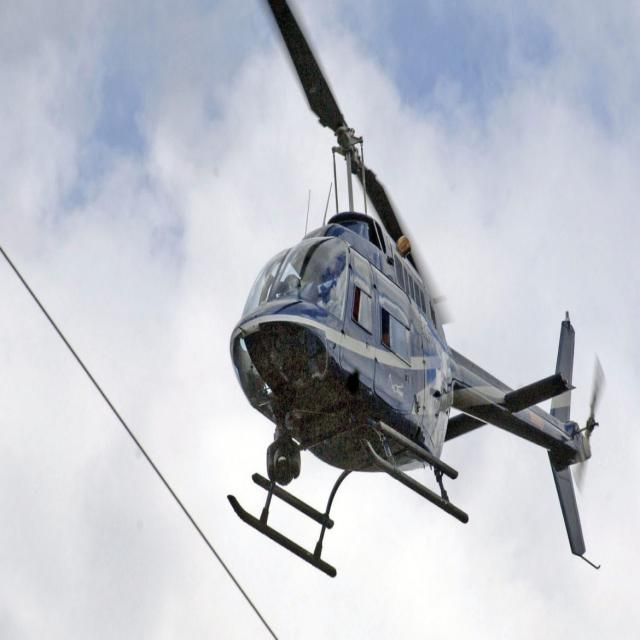helicopter: (213, 47, 620, 596)
